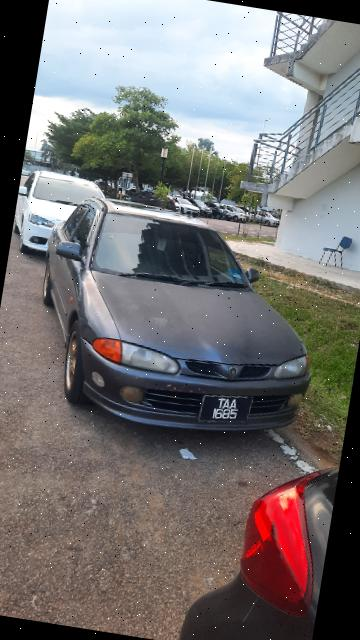License_Plate: (195, 388, 258, 432)
car: (19, 190, 338, 457)
